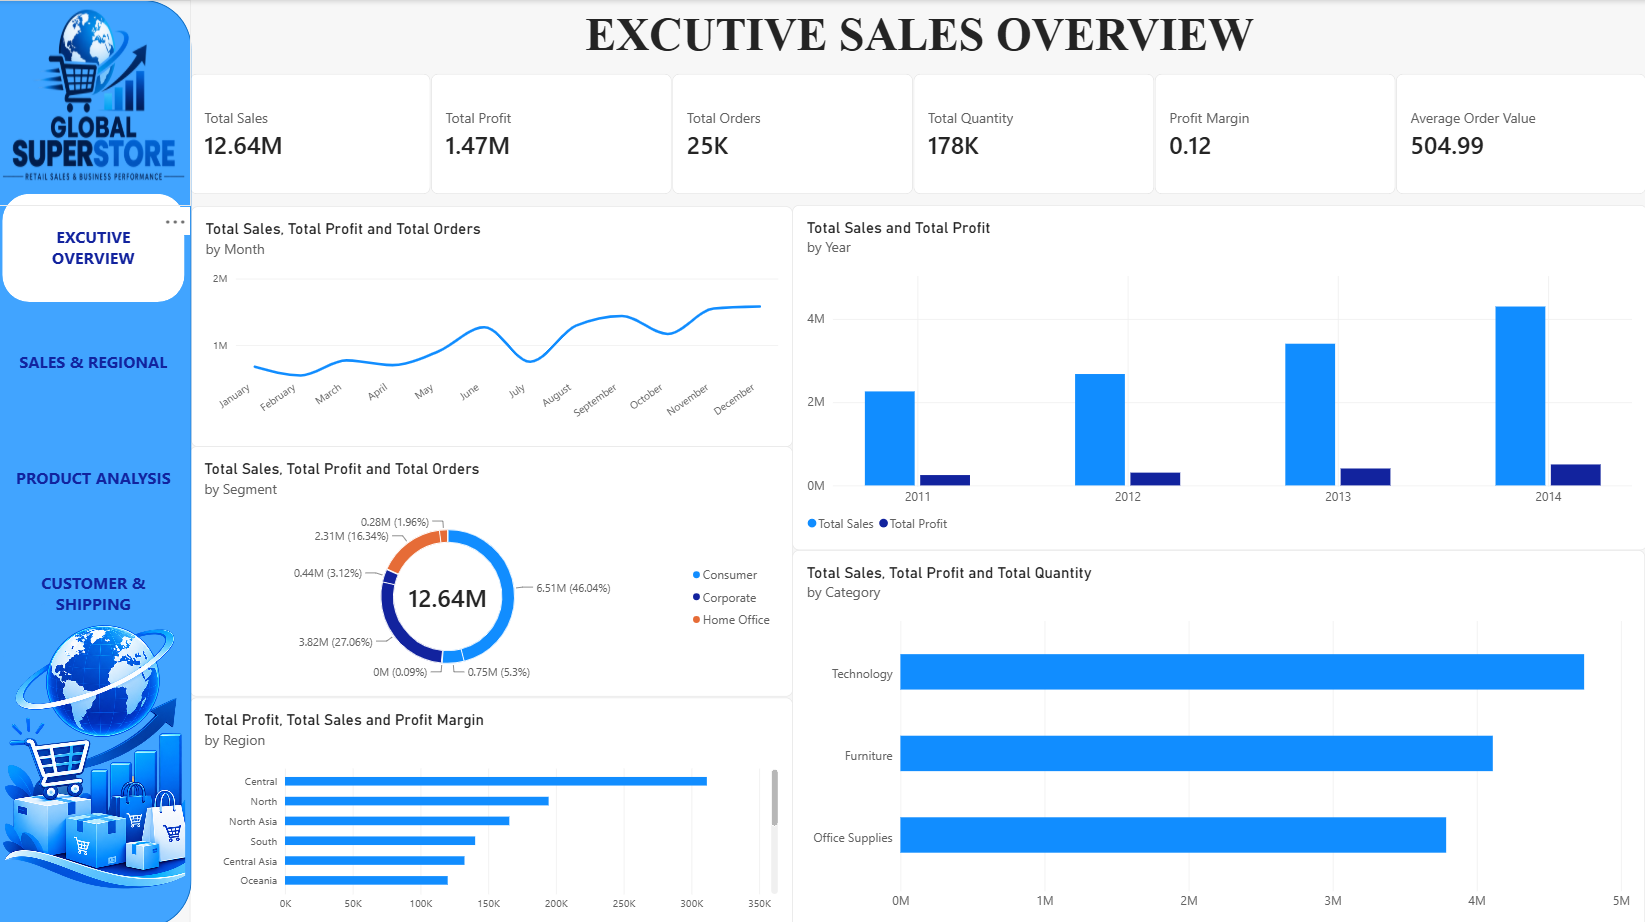

What the dashboard file says about the page in this screenshot:
{"tool":"powerbi","page":{"name":"EXCUTIVE OVERVIEW ","canvas":[1920,1080],"ordinal":0},"visuals":[{"type":"cardVisual","fields":{"Data":["Global_Superstore2.Total Sales"]},"box":[226,85.7,280.6,140.3],"z":1000},{"type":"cardVisual","fields":{"Data":["Global_Superstore2.Total Profit"]},"box":[506.6,85.7,280.6,140.3],"z":2000},{"type":"cardVisual","fields":{"Data":["Global_Superstore2.Total Orders"]},"box":[787.2,85.7,280.6,140.3],"z":3000},{"type":"cardVisual","fields":{"Data":["Global_Superstore2.Total Quantity"]},"box":[1067.8,85.7,280.6,140.3],"z":4000},{"type":"cardVisual","fields":{"Data":["Global_Superstore2.Profit Margin"]},"box":[1348.4,85.7,280.6,140.3],"z":5000},{"type":"cardVisual","fields":{"Data":["Global_Superstore2.Average Order Value"]},"box":[1629,85.7,291.5,140.3],"z":6000},{"type":"lineChart","fields":{"Category":["Global_Superstore2.Order Date.Variation.Date Hierarchy.Month"],"Y":["Global_Superstore2.Total Sales"]},"box":[226.8,239.3,700,280.4],"z":7000},{"type":"clusteredColumnChart","fields":{"Category":["Global_Superstore2.Order Date.Variation.Date Hierarchy.Year"],"Y":["Global_Superstore2.Total Sales","Global_Superstore2.Total Profit"]},"box":[926.2,238.8,994.2,401.4],"z":8000},{"type":"donutChart","fields":{"Category":["Global_Superstore2.Segment"],"Y":["Global_Superstore2.Total Sales","Global_Superstore2.Total Profit","Global_Superstore2.Total Orders"]},"box":[226,519.1,701.5,291.5],"z":9000},{"type":"clusteredBarChart","fields":{"Category":["Global_Superstore2.Category"],"Y":["Global_Superstore2.Total Sales"]},"box":[926.2,640.1,992.1,440.5],"z":10000},{"type":"clusteredBarChart","fields":{"Category":["Global_Superstore2.Region"],"Y":["Global_Superstore2.Total Profit"]},"box":[226,810.6,701.5,269.7],"z":11000},{"type":"textbox","box":[226.8,0,1692.9,85.7],"z":12000},{"type":"shape","box":[0,0,227.5,1080],"z":12001},{"type":"pageNavigator","box":[7.5,225,212.5,530],"z":12002},{"type":"image","box":[0,0,227.5,240],"z":12003},{"type":"image","box":[0,602.5,220,477.5],"z":12004}]}

Visuals, with their boxes in screenshot pixels (x1, y1, x2, y2), scaled from the page's 1920x1080 canvas onto the 1645x922 screenshot:
cardVisual - Global_Superstore2.Total Sales: [left=194, top=73, right=434, bottom=193]
cardVisual - Global_Superstore2.Total Profit: [left=434, top=73, right=674, bottom=193]
cardVisual - Global_Superstore2.Total Orders: [left=674, top=73, right=915, bottom=193]
cardVisual - Global_Superstore2.Total Quantity: [left=915, top=73, right=1155, bottom=193]
cardVisual - Global_Superstore2.Profit Margin: [left=1155, top=73, right=1396, bottom=193]
cardVisual - Global_Superstore2.Average Order Value: [left=1396, top=73, right=1644, bottom=193]
lineChart - Global_Superstore2.Order Date.Variation.Date Hierarchy.Month x Global_Superstore2.Total Sales: [left=194, top=204, right=794, bottom=444]
clusteredColumnChart - Global_Superstore2.Order Date.Variation.Date Hierarchy.Year x Global_Superstore2.Total Sales: [left=794, top=204, right=1644, bottom=547]
donutChart - Global_Superstore2.Segment x Global_Superstore2.Total Sales: [left=194, top=443, right=795, bottom=692]
clusteredBarChart - Global_Superstore2.Category x Global_Superstore2.Total Sales: [left=794, top=546, right=1644, bottom=921]
clusteredBarChart - Global_Superstore2.Region x Global_Superstore2.Total Profit: [left=194, top=692, right=795, bottom=921]
textbox: [left=194, top=0, right=1644, bottom=73]
shape: [left=0, top=0, right=195, bottom=921]
pageNavigator: [left=6, top=192, right=188, bottom=645]
image: [left=0, top=0, right=195, bottom=205]
image: [left=0, top=514, right=188, bottom=921]
